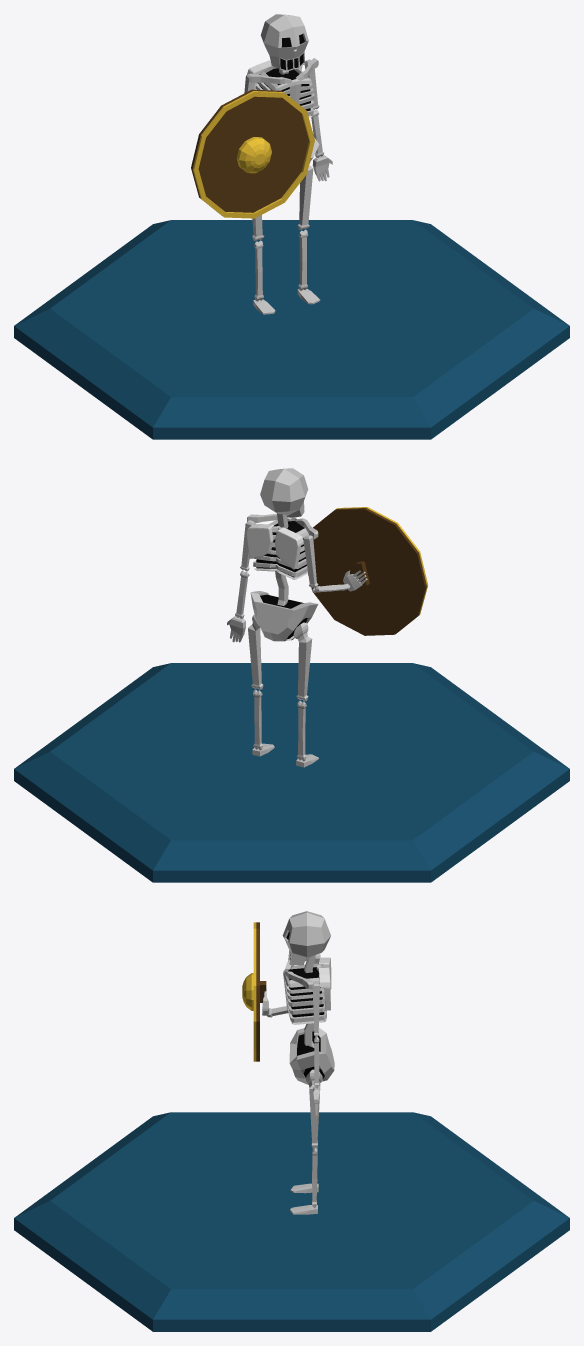
The model's file is Shield_Figure.fbx.
3 renders of one model, top to bottom at view 1: azimuth 30°, elevation 25°; view 2: azimuth 150°, elevation 25°; view 3: azimuth 270°, elevation 25°, orthographic.
Parts seen in each view (by area): view 1: Base, Shield, Skull, Ribs, Upper Leg Left, Collar Bones; view 2: Base, Shield, Waist, Skull, Shoulder, Ribs, Upper Leg Right, Upper Leg Left; view 3: Base, Skull, Ribs, Waist, Shield, Upper Leg Left, Shoulder.
Boxes of the visible parts, x1,y1,x2,y2 form: Base: (14,220,569,439); Shield: (191,89,314,218); Skull: (260,14,308,71); Ribs: (255,66,314,117); Upper Leg Left: (297,165,313,230); Collar Bones: (247,58,318,83); Base: (14,663,569,882); Shield: (308,507,427,635); Waist: (250,591,318,641); Skull: (260,468,308,517); Shoulder: (246,524,303,569); Ribs: (253,518,308,579); Upper Leg Right: (293,622,312,701); Upper Leg Left: (248,614,263,689); Base: (14,1112,569,1331); Skull: (282,911,330,965); Ribs: (283,963,326,1024); Waist: (289,1027,334,1084); Shield: (242,922,266,1061); Upper Leg Left: (306,1069,322,1148); Shoulder: (318,957,331,1010).
Size of the model in its own units: 483 by 352 by 558.
